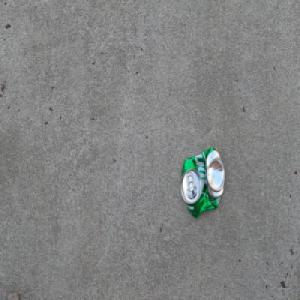SodaCan: (178, 145, 224, 219)
